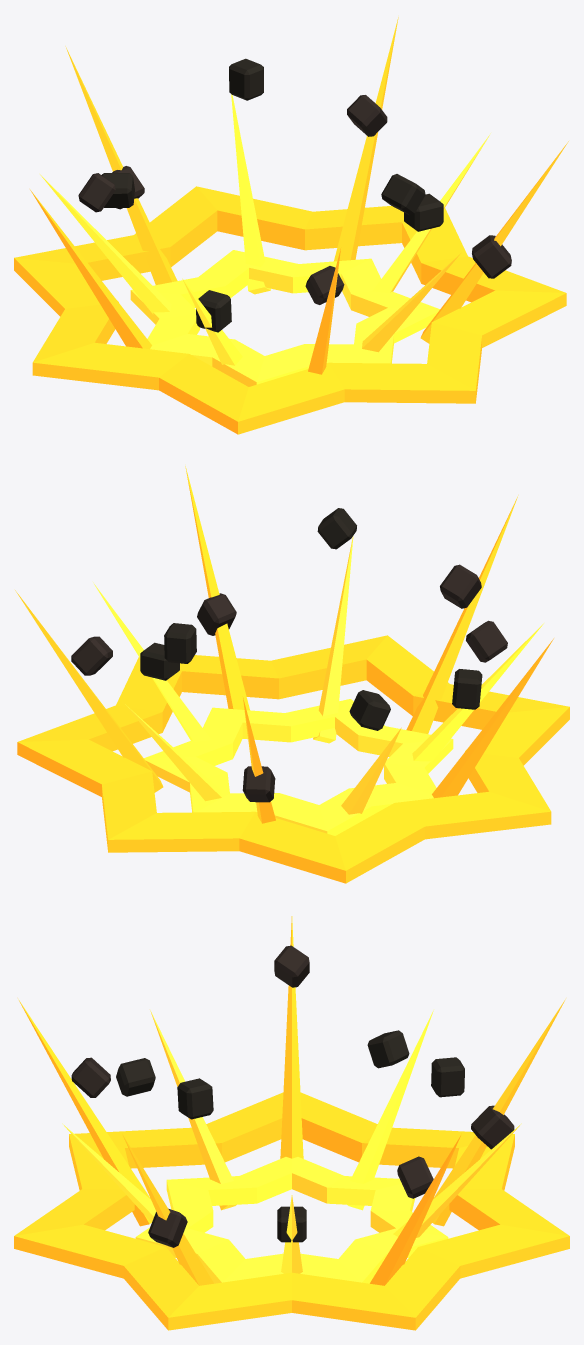
Rendered from vfx_mutant_bile_juggernaut.glb.
3 views of the same model, one above another, from view 1: azimuth 30°, elevation 25°; view 2: azimuth 150°, elevation 25°; view 3: azimuth 270°, elevation 25° (orthographic).
Parts seen in each view (by area): view 1: VFX_Mutant_Juggernaut; view 2: VFX_Mutant_Juggernaut; view 3: VFX_Mutant_Juggernaut.
Part boxes in pixels (bbox=[...]): VFX_Mutant_Juggernaut: bbox=[14, 17, 568, 434]; VFX_Mutant_Juggernaut: bbox=[15, 466, 569, 883]; VFX_Mutant_Juggernaut: bbox=[14, 916, 569, 1330].
Size of the model in its own units: 1.4 by 0.6008 by 1.42.
